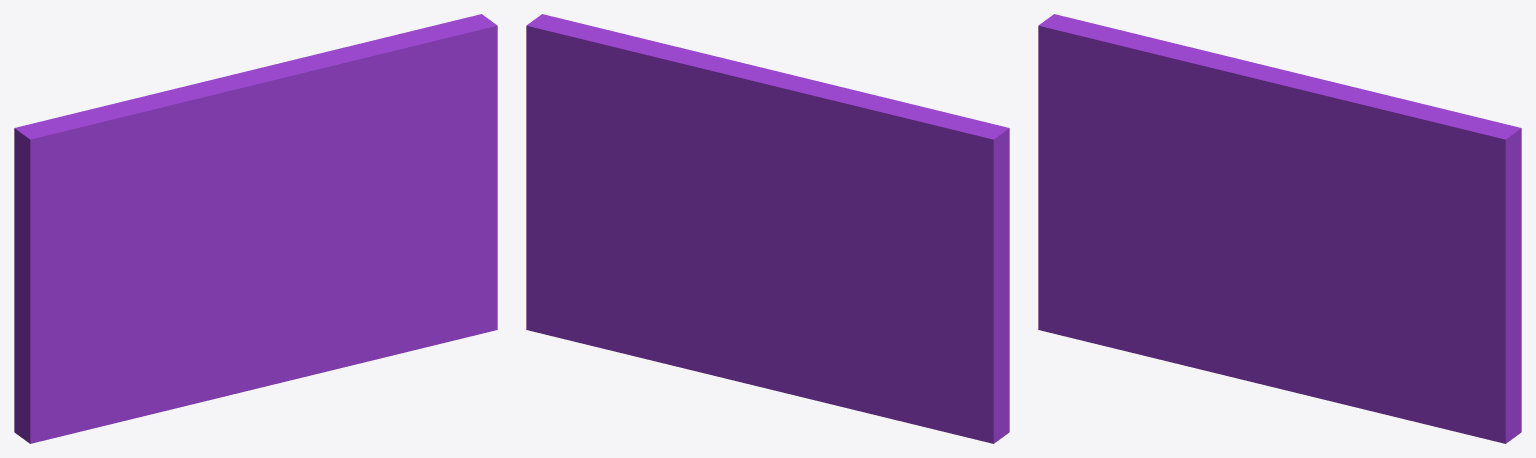
File: Barrier_84_chunks.fbx
The picture shows the model from 3 angles, left to right: view 1: azimuth 30°, elevation 25°; view 2: azimuth 150°, elevation 25°; view 3: azimuth 330°, elevation 25°; orthographic projection.
Visible parts, largest first — view 1: Barrier_84_1, Barrier_84_0, Barrier_84_5, Barrier_84_3, Barrier_84_2, Barrier_84_4, Barrier_84_6; view 2: Barrier_84_1, Barrier_84_2, Barrier_84_0, Barrier_84_6, Barrier_84_3, Barrier_84_4, Barrier_84_5; view 3: Barrier_84_0, Barrier_84_1, Barrier_84_5, Barrier_84_3, Barrier_84_2, Barrier_84_4, Barrier_84_6.
Part boxes in pixels (bbox=[...]): Barrier_84_1: bbox=[14, 172, 264, 443]; Barrier_84_0: bbox=[255, 131, 497, 386]; Barrier_84_5: bbox=[202, 33, 462, 214]; Barrier_84_3: bbox=[14, 73, 247, 193]; Barrier_84_2: bbox=[344, 14, 497, 164]; Barrier_84_4: bbox=[40, 160, 262, 236]; Barrier_84_6: bbox=[240, 32, 441, 230]; Barrier_84_1: bbox=[742, 180, 1009, 443]; Barrier_84_2: bbox=[526, 14, 769, 284]; Barrier_84_0: bbox=[526, 237, 747, 382]; Barrier_84_6: bbox=[586, 30, 821, 228]; Barrier_84_3: bbox=[768, 76, 1009, 191]; Barrier_84_4: bbox=[786, 164, 952, 225]; Barrier_84_5: bbox=[578, 23, 797, 80]; Barrier_84_0: bbox=[1263, 203, 1521, 443]; Barrier_84_1: bbox=[1038, 77, 1272, 386]; Barrier_84_5: bbox=[1210, 73, 1470, 210]; Barrier_84_3: bbox=[1038, 14, 1279, 129]; Barrier_84_2: bbox=[1351, 110, 1521, 338]; Barrier_84_4: bbox=[1048, 84, 1270, 232]; Barrier_84_6: bbox=[1262, 69, 1461, 229].
Size of the model in its own units: 462 by 288 by 27.2.
